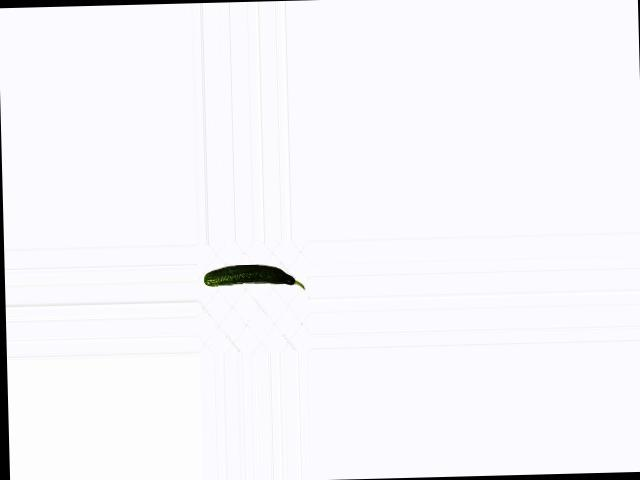cucumber: (204, 263, 305, 291)
